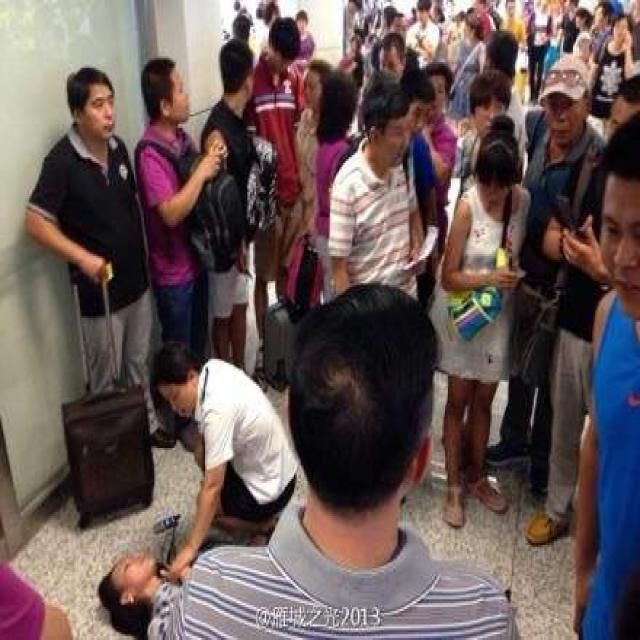10-: (1, 0, 638, 636)
down: (79, 532, 221, 630)
